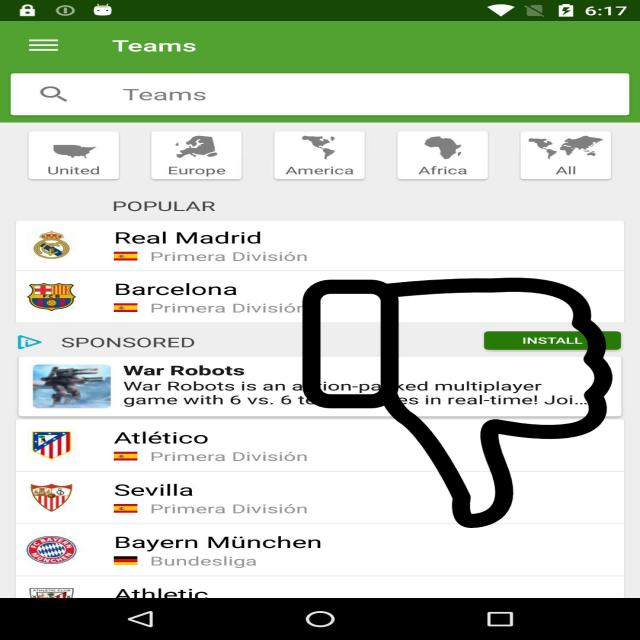obstruction: (298, 278, 617, 528)
